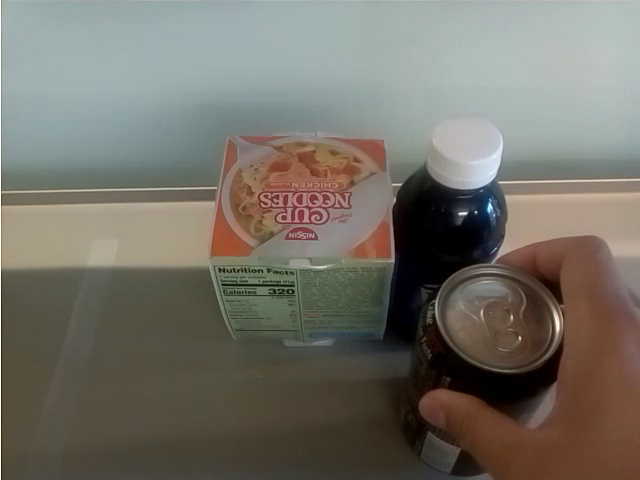cocacola-zero: (405, 269, 563, 408)
hand: (420, 227, 639, 476)
juice-shadow: (387, 111, 507, 264)
noodles: (201, 136, 393, 345)
